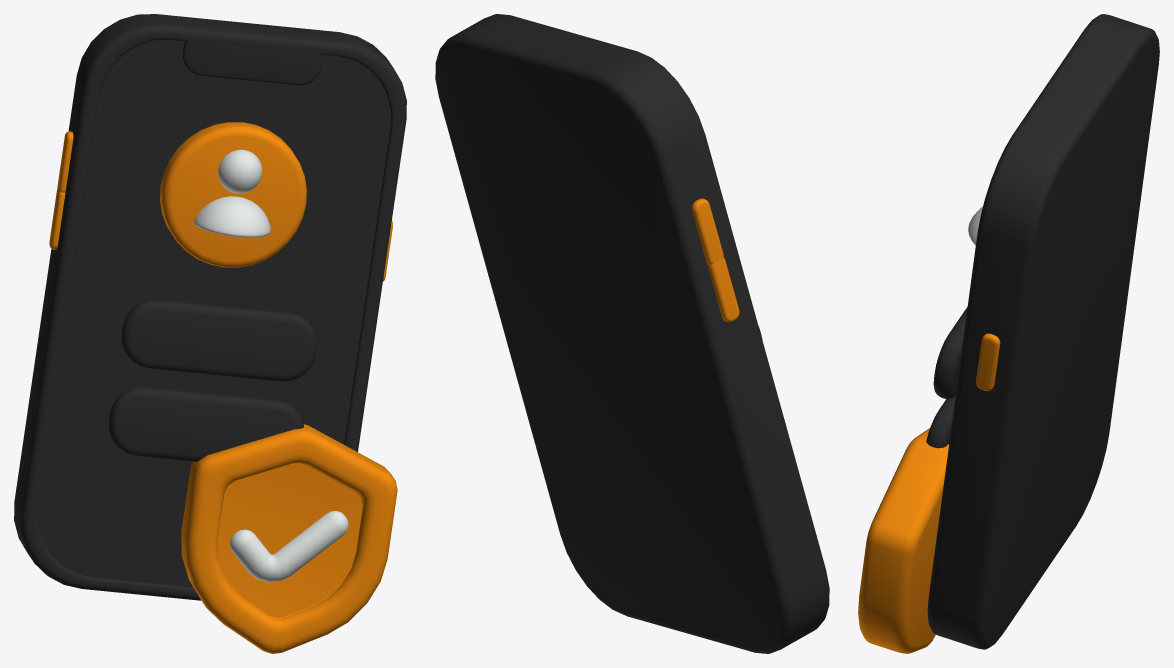
The model's file is UserLogin.gltf.
3 views of the same model, side by side, from view 1: azimuth 30°, elevation 25°; view 2: azimuth 150°, elevation 25°; view 3: azimuth 270°, elevation 25° (orthographic). The views are drawn at different scales.
Parts seen in each view (by area): view 1: Cube.064, Cube.160, Cube.065, Cylinder.016, Cube.067, Cube.001, Sphere.004, Cube.015, Cube.066; view 2: Cube.065, Cube.066; view 3: Cube.065, Cube.160, Cube.067, Cube.066, Cube.001.
Part boxes in pixels (x1=…): Cube.064: x1=38, y1=39, x2=390, y2=587; Cube.160: x1=181, y1=424, x2=397, y2=653; Cube.065: x1=14, y1=14, x2=406, y2=600; Cylinder.016: x1=160, y1=122, x2=306, y2=267; Cube.067: x1=121, y1=299, x2=316, y2=381; Cube.001: x1=109, y1=387, x2=303, y2=461; Sphere.004: x1=194, y1=149, x2=270, y2=237; Cube.015: x1=230, y1=511, x2=348, y2=582; Cube.066: x1=49, y1=131, x2=392, y2=281; Cube.065: x1=435, y1=14, x2=829, y2=653; Cube.066: x1=692, y1=198, x2=739, y2=322; Cube.065: x1=927, y1=14, x2=1159, y2=649; Cube.160: x1=858, y1=428, x2=948, y2=653; Cube.067: x1=933, y1=307, x2=967, y2=398; Cube.066: x1=976, y1=333, x2=1000, y2=390; Cube.001: x1=926, y1=396, x2=955, y2=448.
Bounding box in the file's own units: 2.64 × 3.95 × 1.78.
